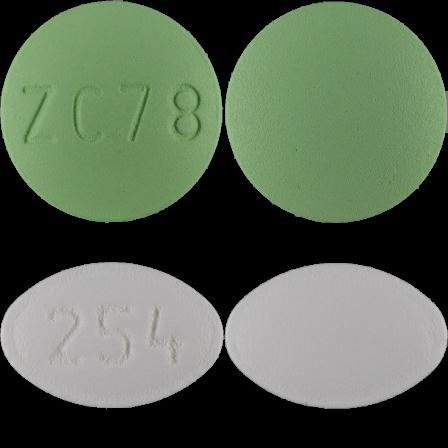58118-0081: (0, 0, 224, 224)
